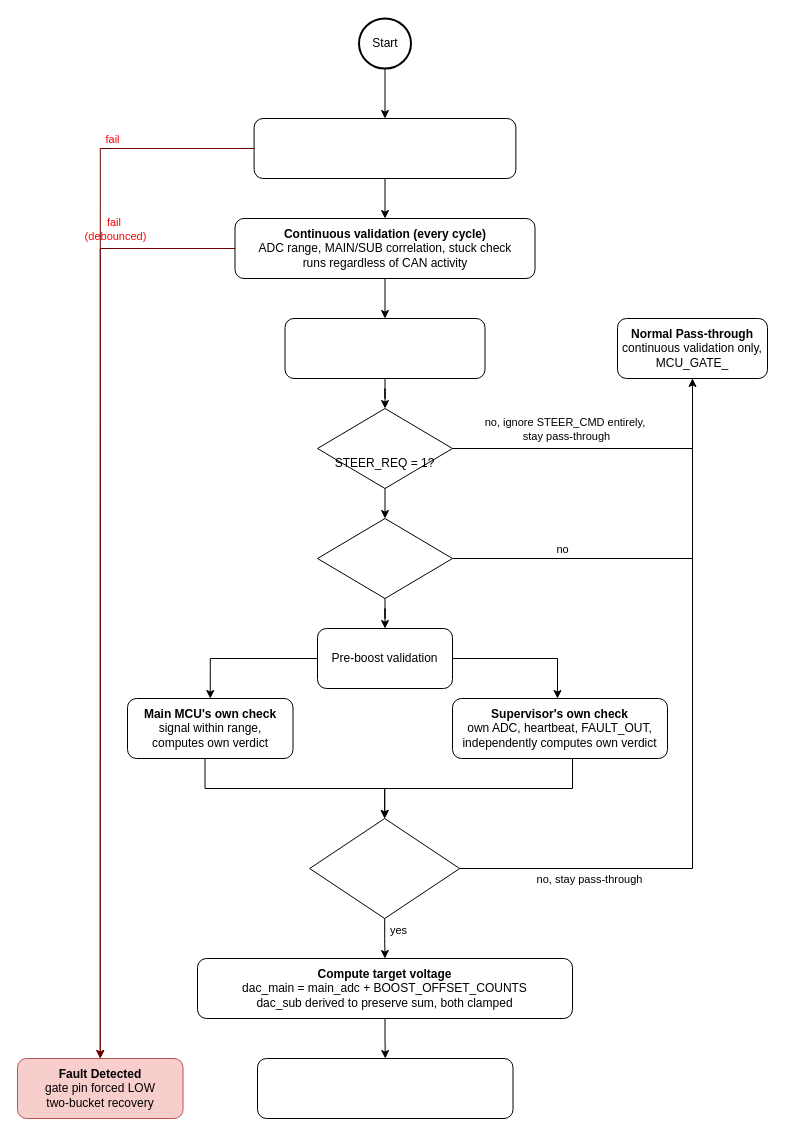
Image size: 785x1136. Some labels were removed from this diagram. Each missing label, with the centre of its shape:
Boost_Active MCU_GATE_ENABLE = HIGH, DAC driven: point (384, 1088)
both gate pins independently HIGH?: point (384, 868)
CAN frame received BO_464 STEERING_LKAS: point (384, 348)
Startup self-test raw, non-debounced checks: point (384, 148)
STEER_CMD >200?: point (384, 558)
